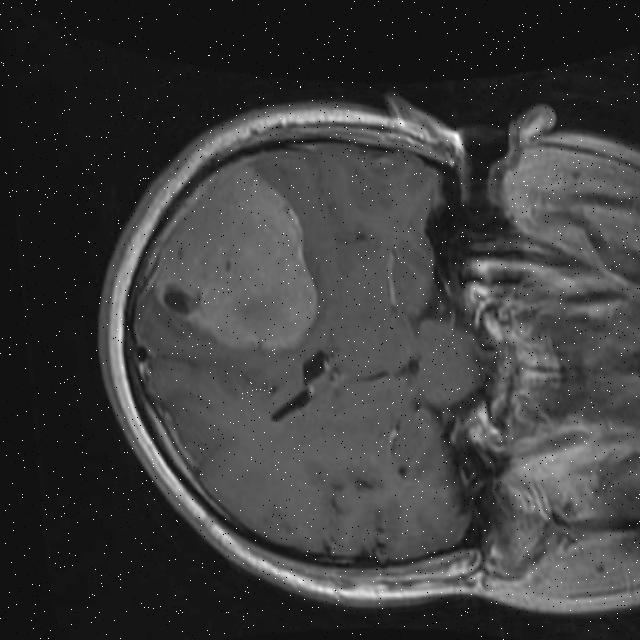Meningioma: (140, 155, 322, 355)
